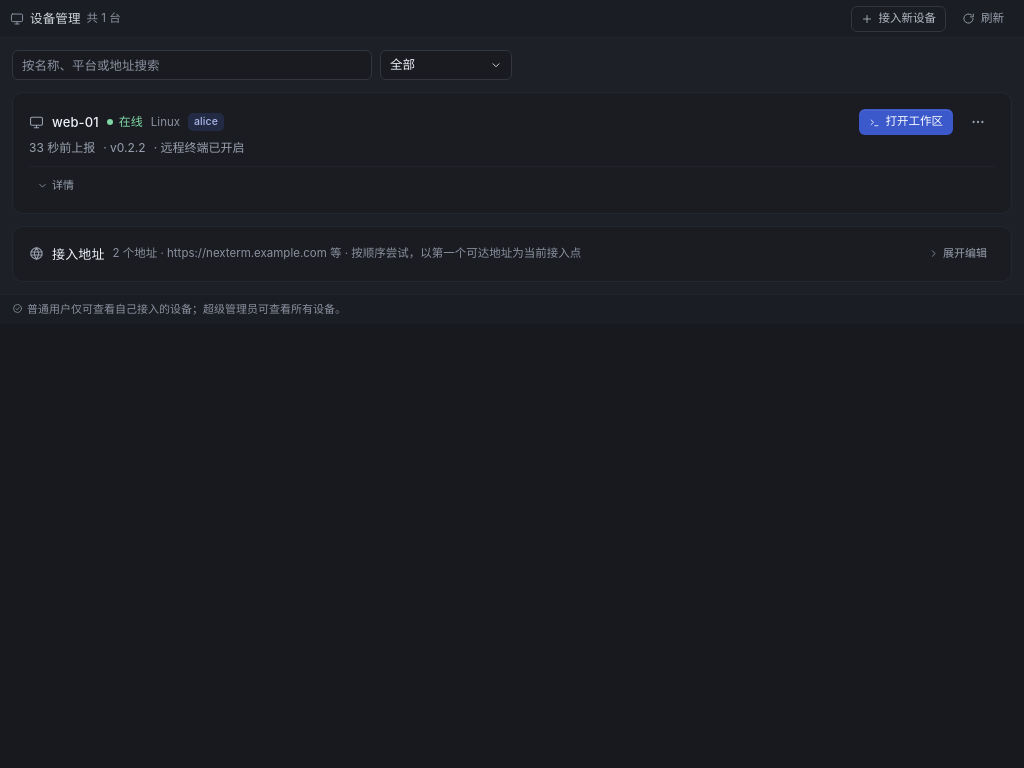
Device management - guided enrollment › adds the old-agent hint for a newly connected device whose agent is older than the server
Click the button "接入新设备" at (898, 18), box [850,6,946,32]
Wait 3000 ms
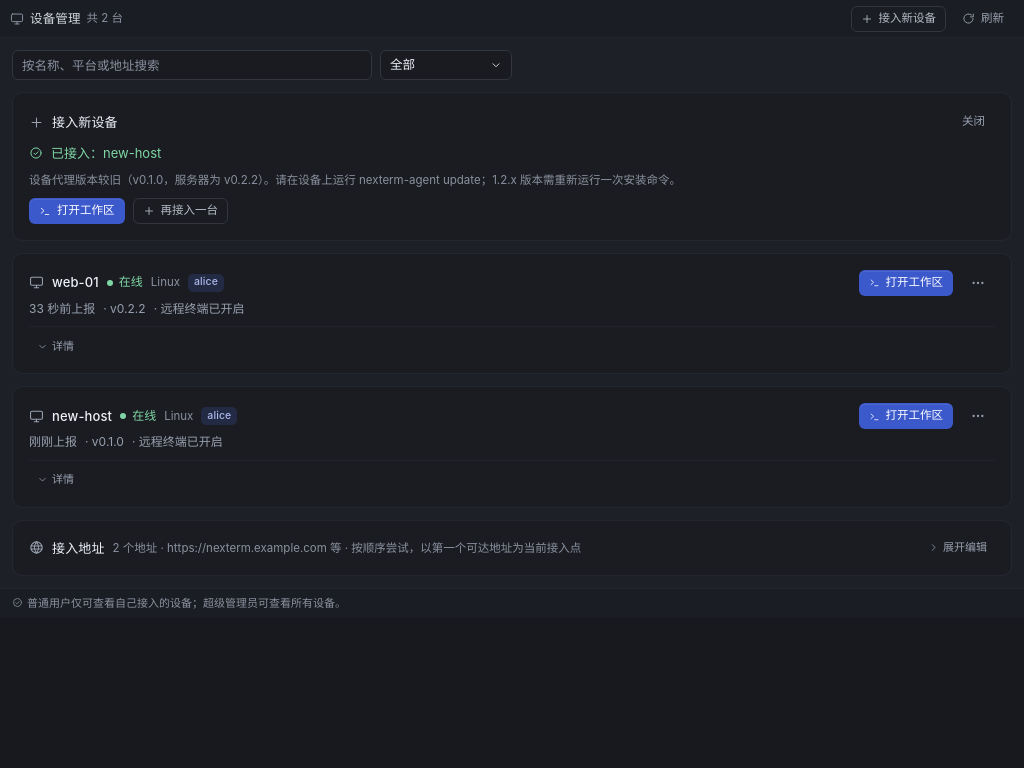
Expected: the element that starts with "接入新设备" shows "设备代理版本较旧", [29,173,681,187]
Expected: the element that starts with "接入新设备" shows "nexterm-agent update", [29,173,681,187]
